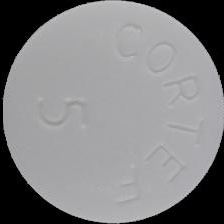0179-0155: (0, 0, 224, 224)
